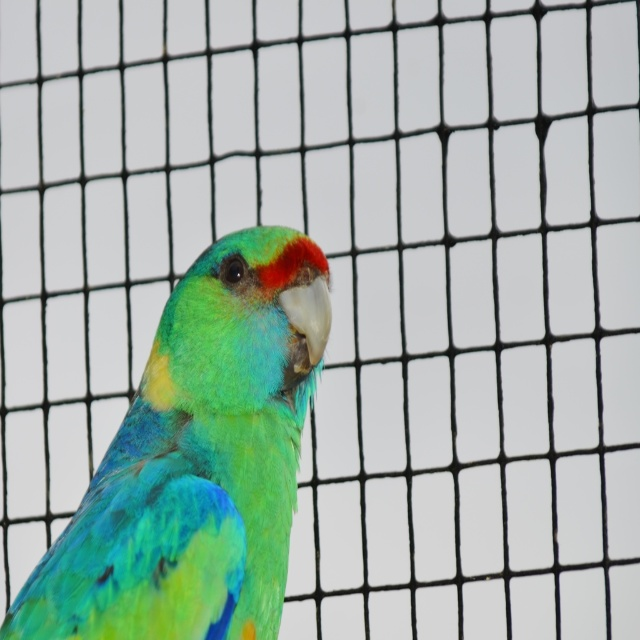Parrot: (1, 224, 333, 639)
